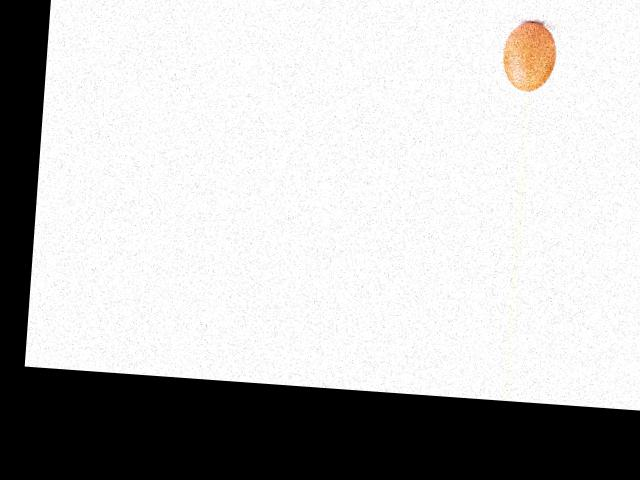egg: (502, 19, 558, 92)
